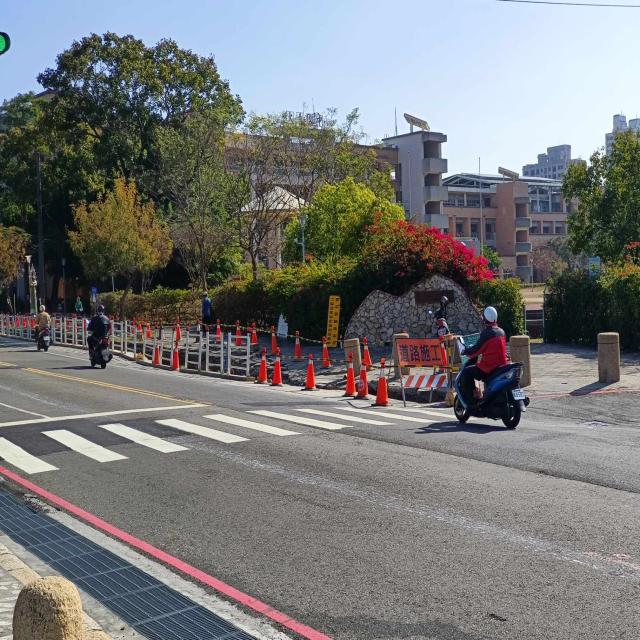person: (464, 307, 508, 398), (88, 305, 110, 340), (35, 305, 51, 333), (202, 292, 211, 331), (75, 297, 84, 317)
zebra crossing: (0, 405, 457, 477)
